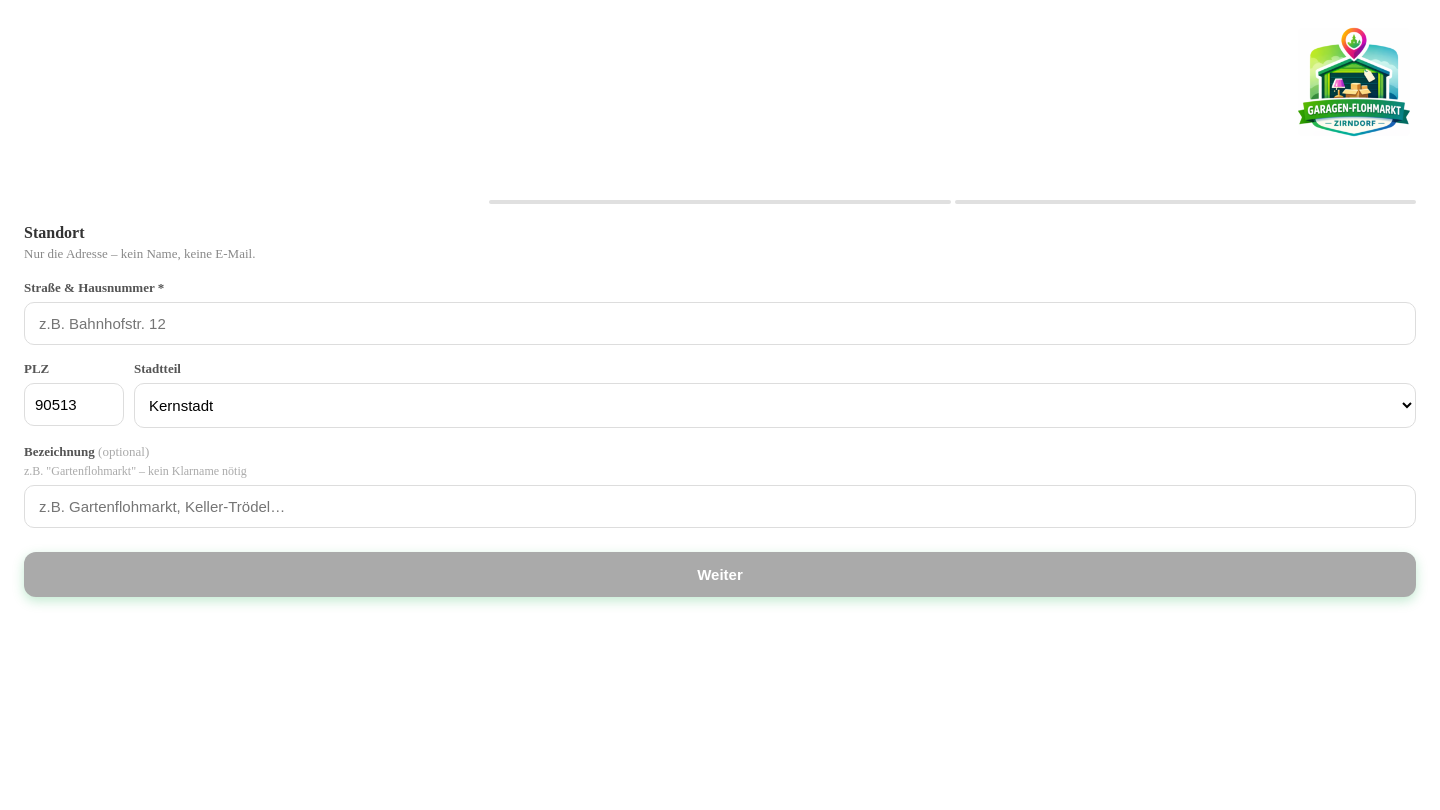
it: RegisterScreen › starts at step 1 and enables next after address input
The image size is (1440, 810).
Expected: the button "Weiter" is disabled, [24,552,1416,597]
Type "Teststr. 5" into the field with placeholder "z.B. Bahnhofstr. 12".
click(720, 324); type("Teststr. 5")  # box [24,302,1416,345]
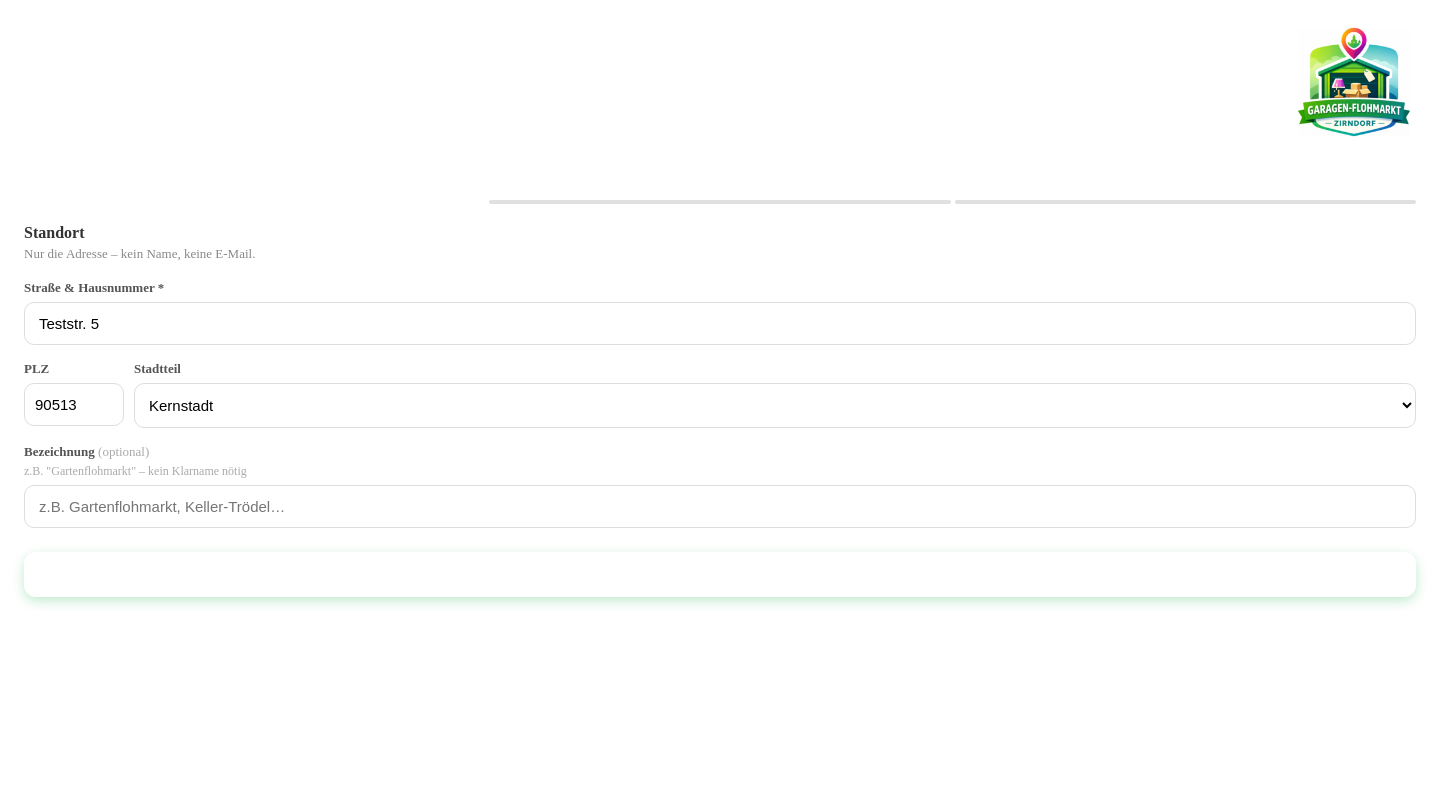
Result: the button "Weiter" is enabled at [24,552,1416,597]
